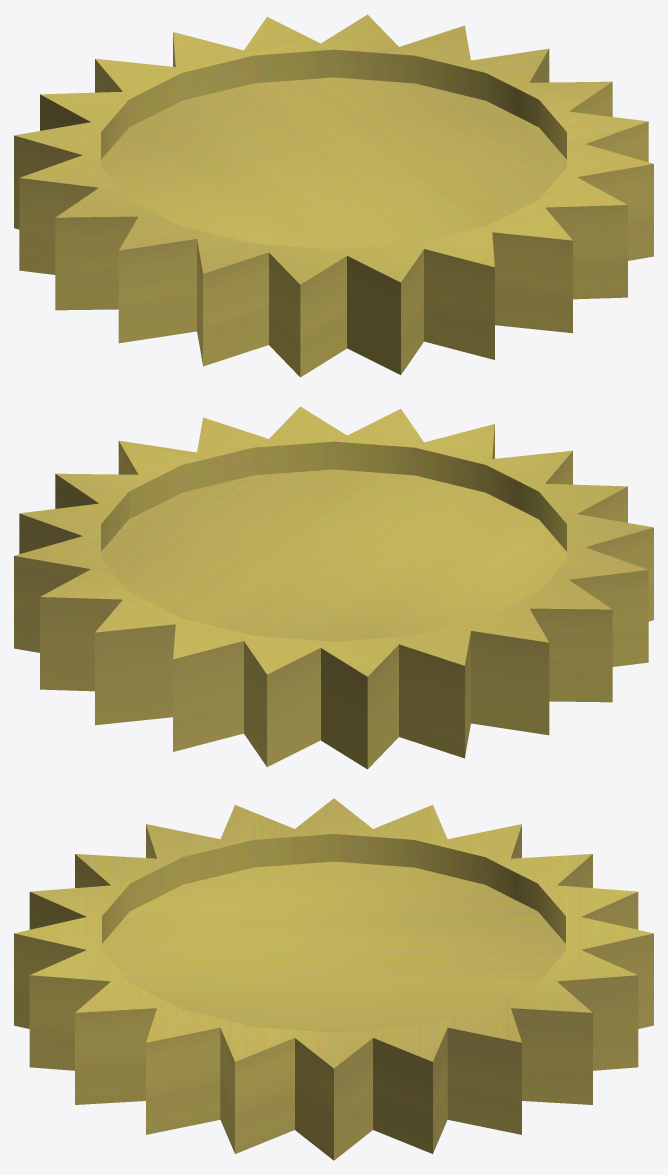
File: ClockStraightFacet6Spoke020.fbx
The picture shows the model from 3 angles, top to bottom: view 1: azimuth 30°, elevation 25°; view 2: azimuth 150°, elevation 25°; view 3: azimuth 270°, elevation 25°; orthographic projection.
Visible parts, largest first — view 1: ClockStraightFacet6Spoke020; view 2: ClockStraightFacet6Spoke020; view 3: ClockStraightFacet6Spoke020.
Boxes of the visible parts, x1,y1,x2,y2 form: ClockStraightFacet6Spoke020: [14, 14, 653, 377]; ClockStraightFacet6Spoke020: [14, 406, 653, 769]; ClockStraightFacet6Spoke020: [14, 798, 653, 1160].
Bounding box in the file's own units: 124 × 19.69 × 124.
